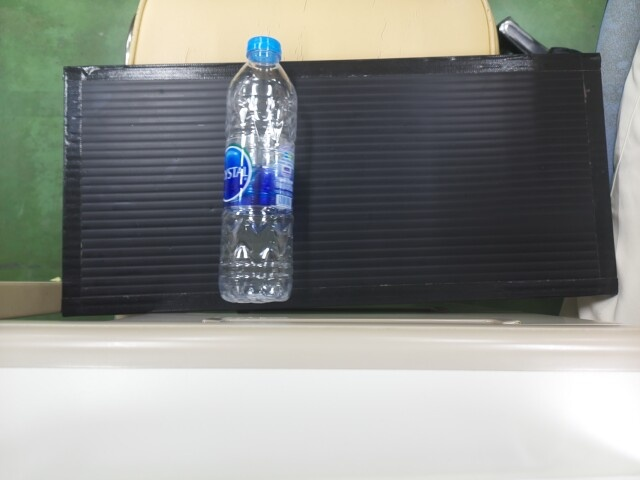plastic_bottle: (219, 36, 295, 298)
